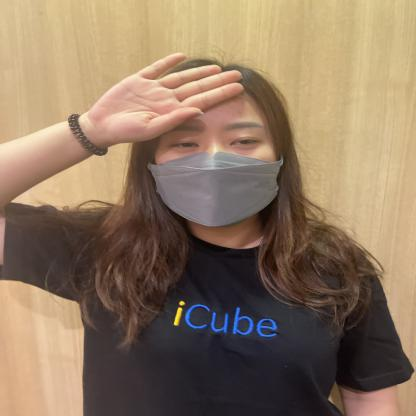Sick: (58, 33, 246, 154)
